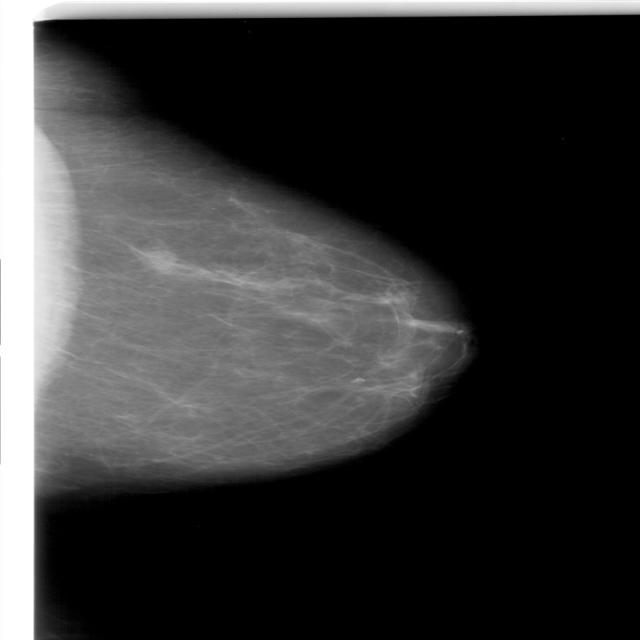normal: (0, 34, 491, 503)
